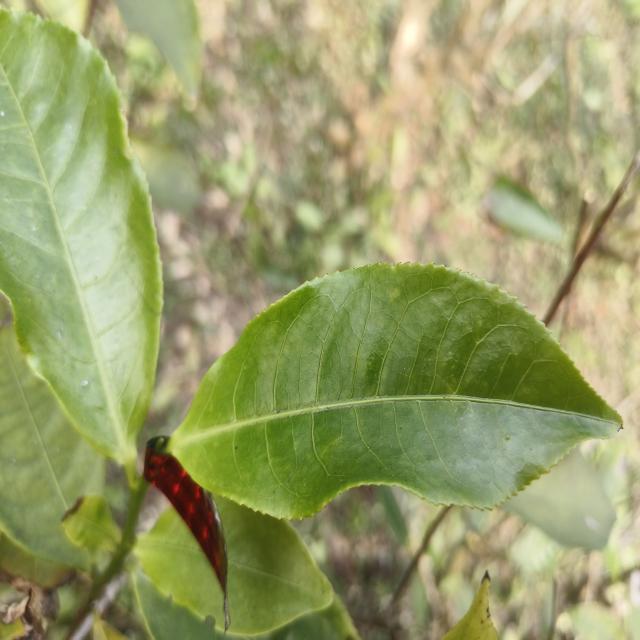Leaf: (169, 263, 622, 518), (0, 11, 162, 470), (0, 325, 104, 568), (216, 496, 333, 636), (504, 447, 616, 549), (134, 507, 224, 632), (116, 0, 202, 98), (485, 178, 563, 243), (62, 495, 121, 551), (568, 602, 623, 640)
